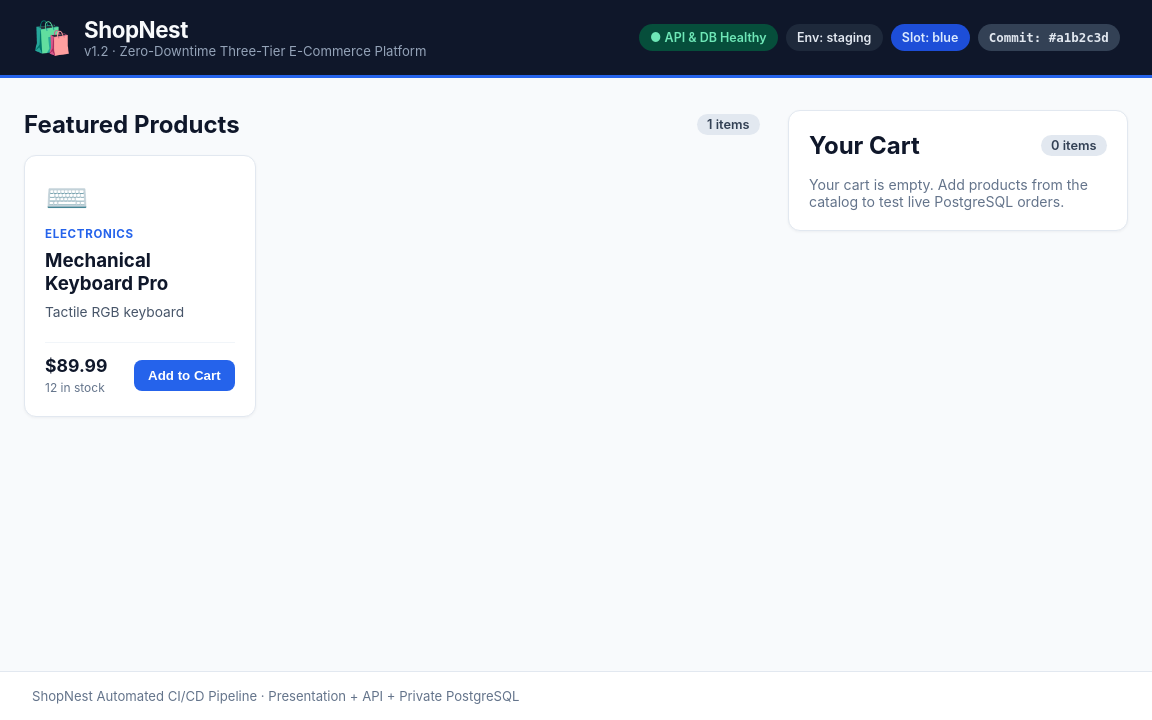
Scenario: ShopNest Frontend App › allows adding a product to the shopping cart
Click the button "Add to Cart" at {"x": 184, "y": 376}, box [134,360,235,391]
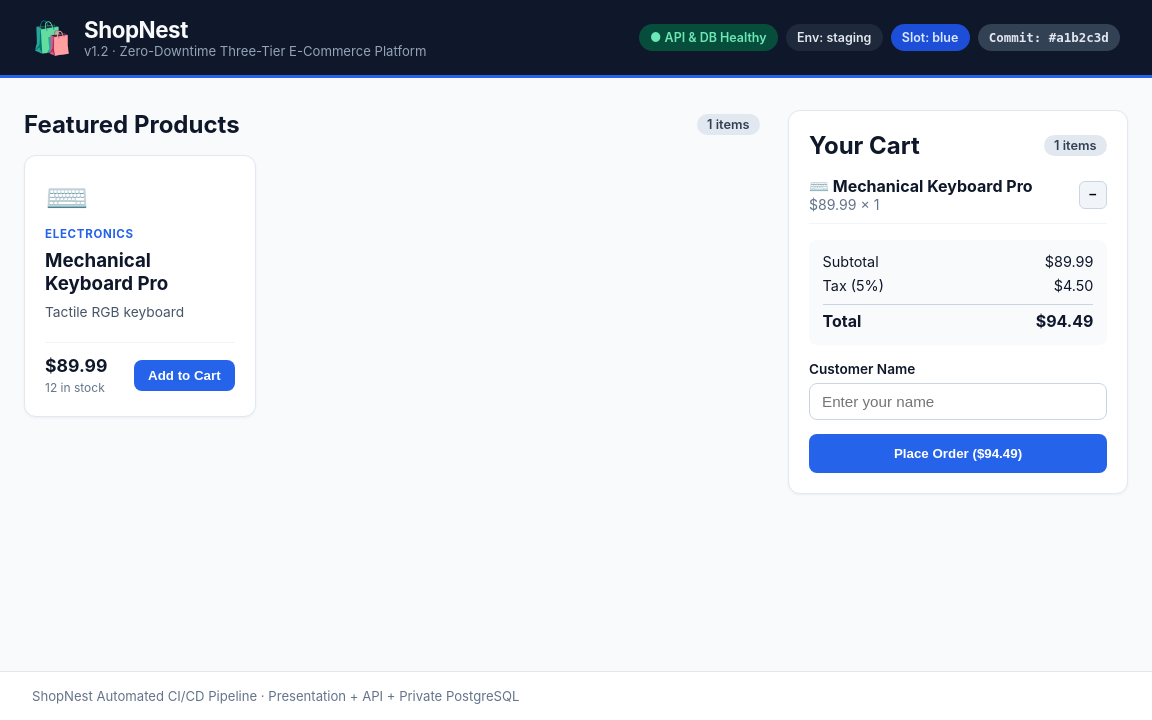
Result: the text "Subtotal" is shown at [823,253,879,270]
Result: the button "Place Order ($94.49)" is shown at [809,434,1107,473]
